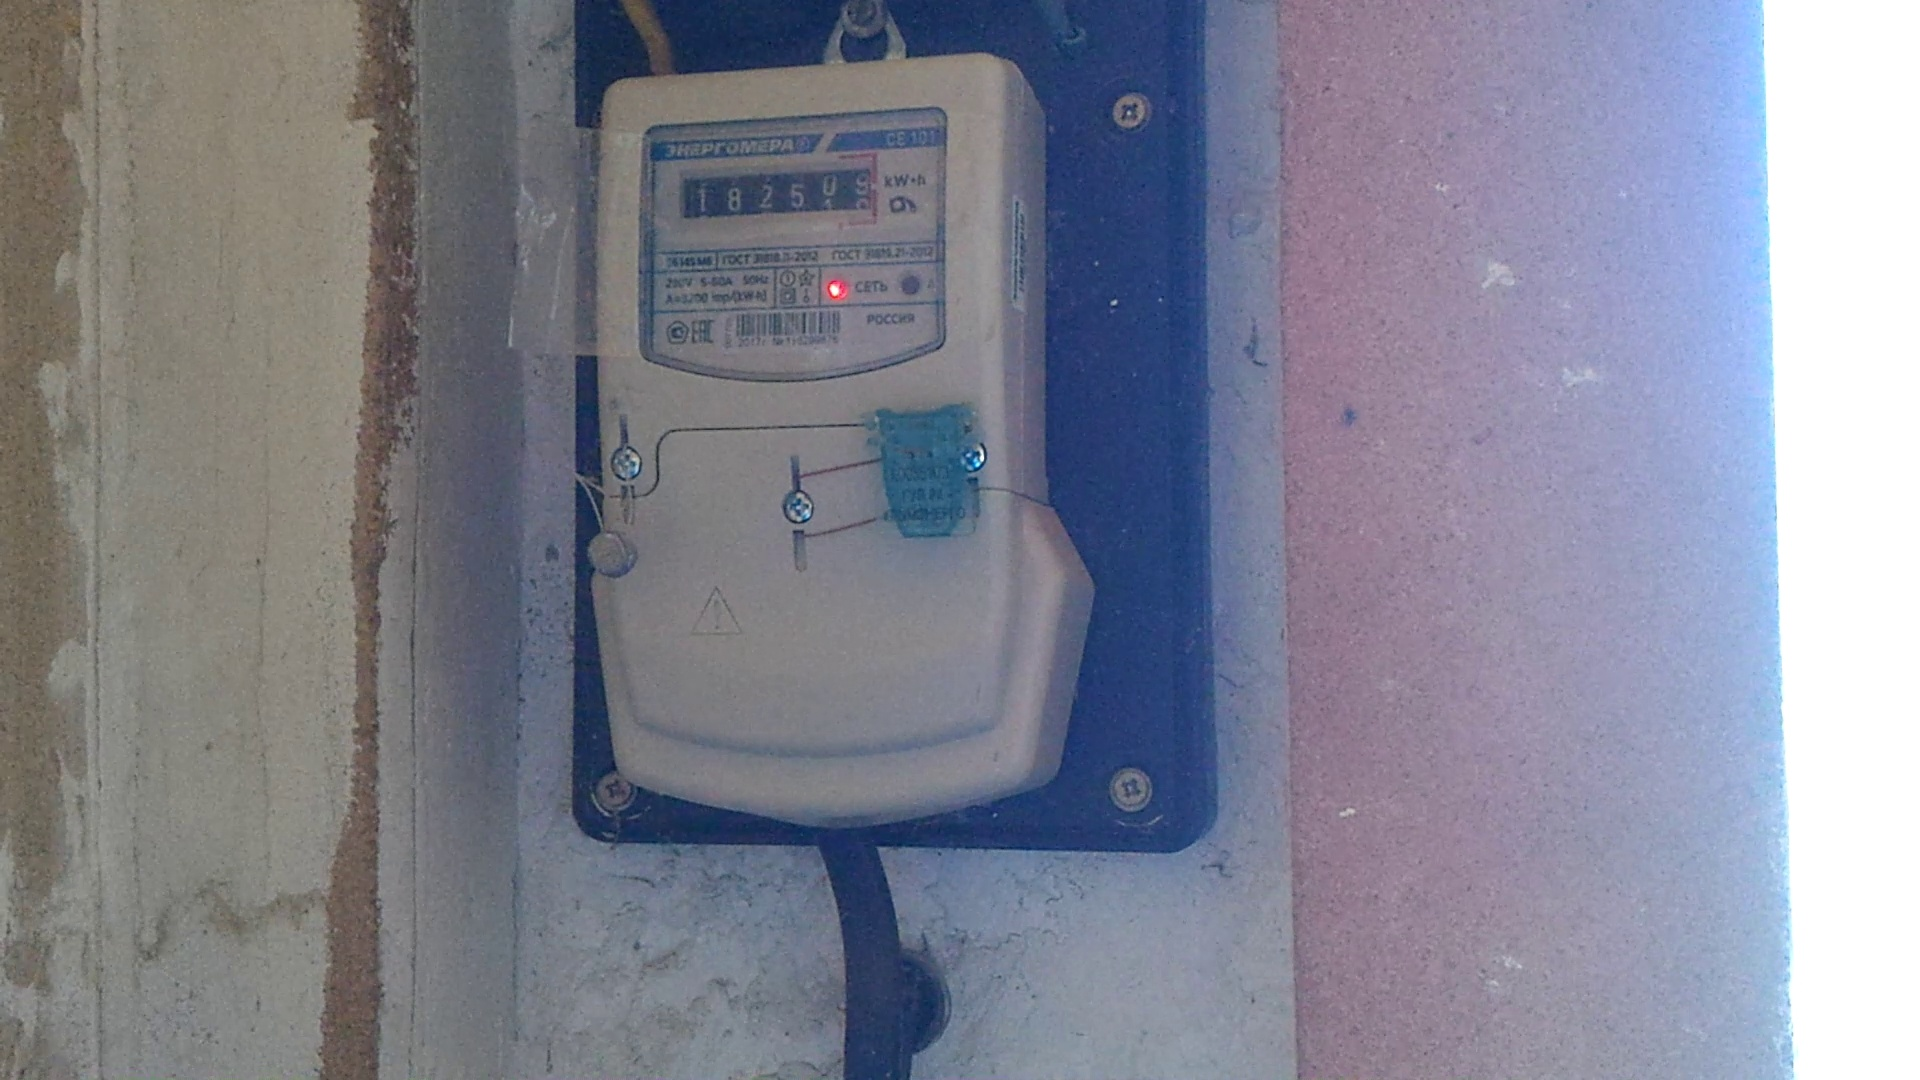counter: (603, 69, 1015, 800)
counter_screen: (680, 166, 874, 219)
